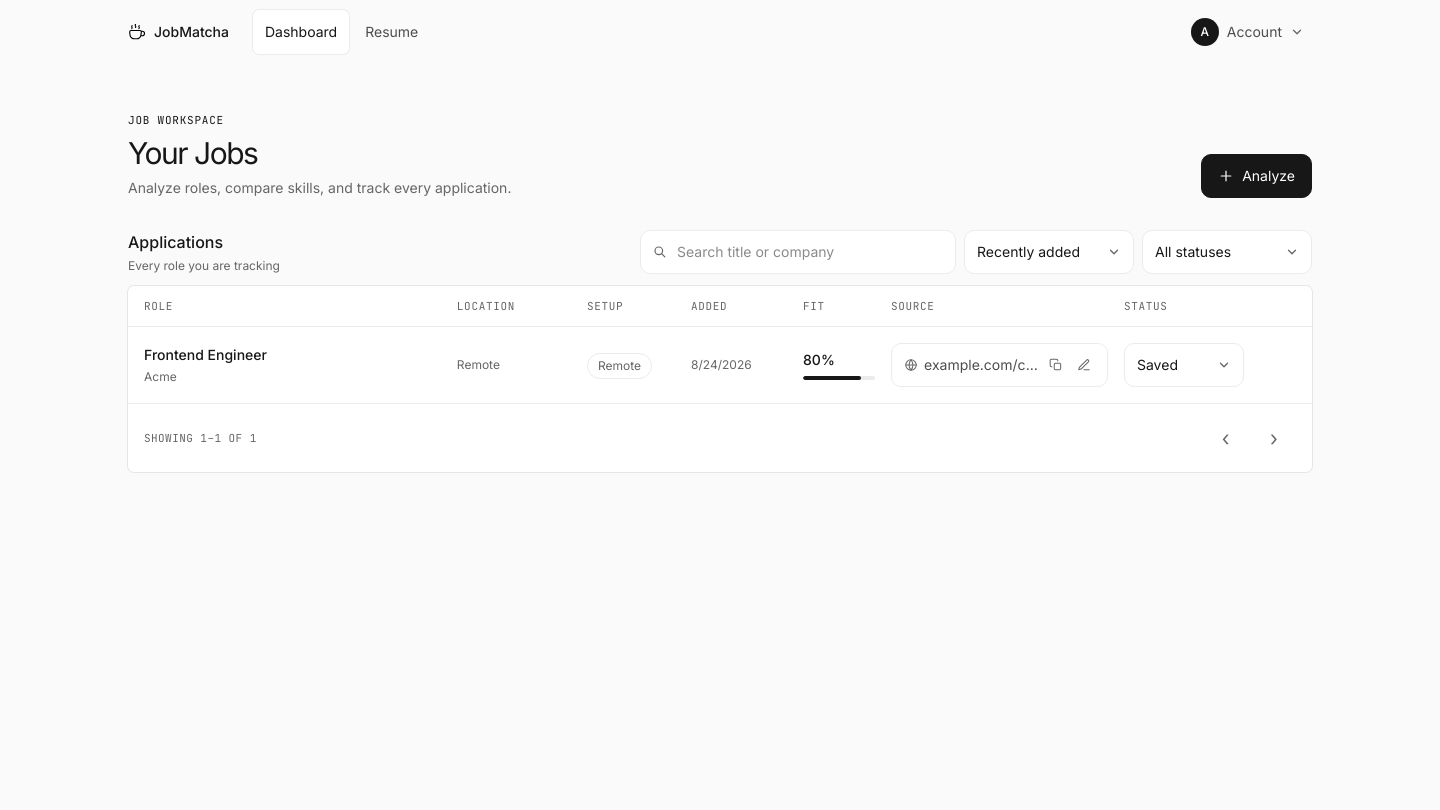
Test: DashboardPage › confirms a status change without moving the page
The image size is (1440, 810).
What coordinates should you click on to do the following:
click the dropdown named "Status for"
I would click on:
 (1184, 365)
Its box is [1124, 343, 1244, 387].
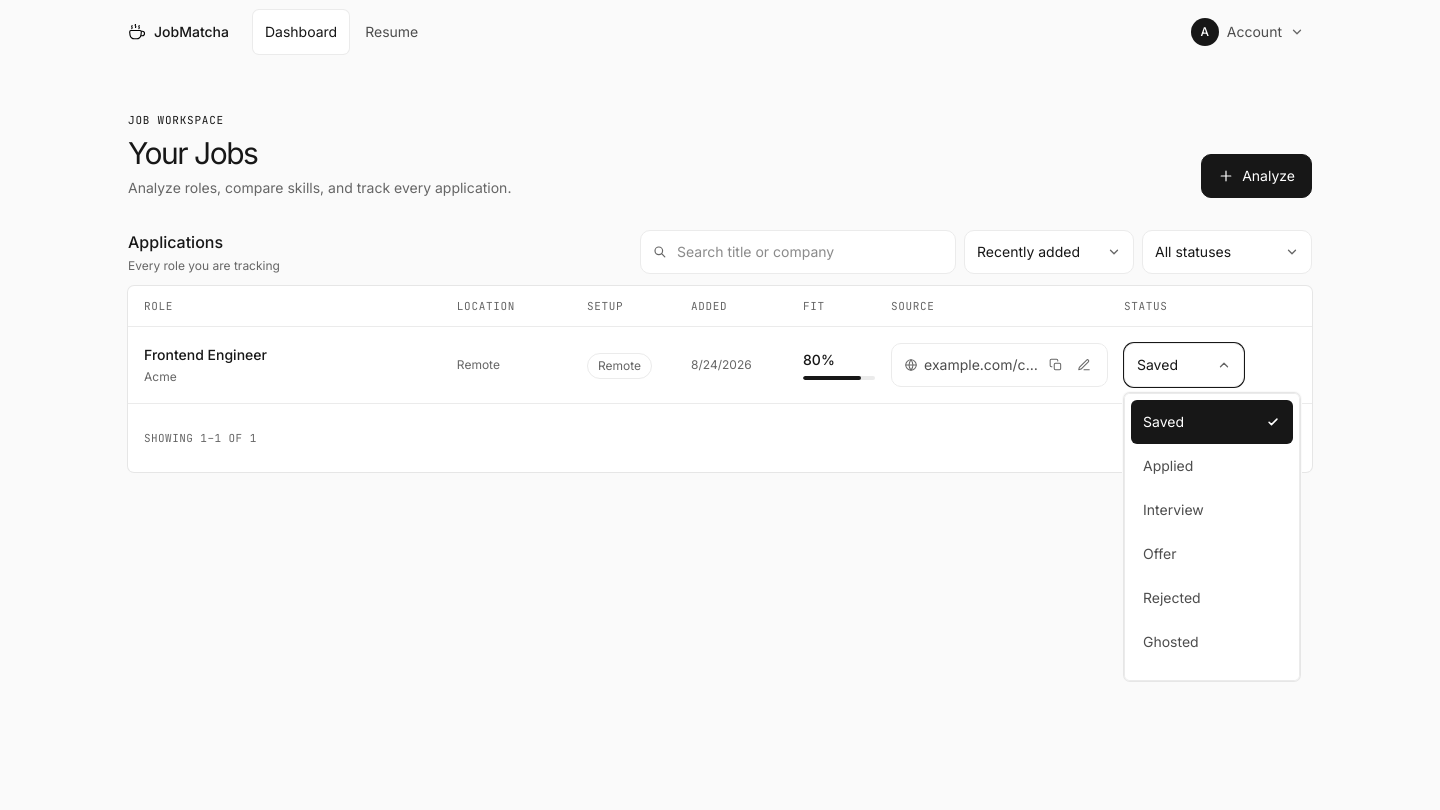
What coordinates should you click on to do the following:
click the option "Applied"
I would click on:
 (1212, 466)
Its box is [1131, 444, 1293, 488].
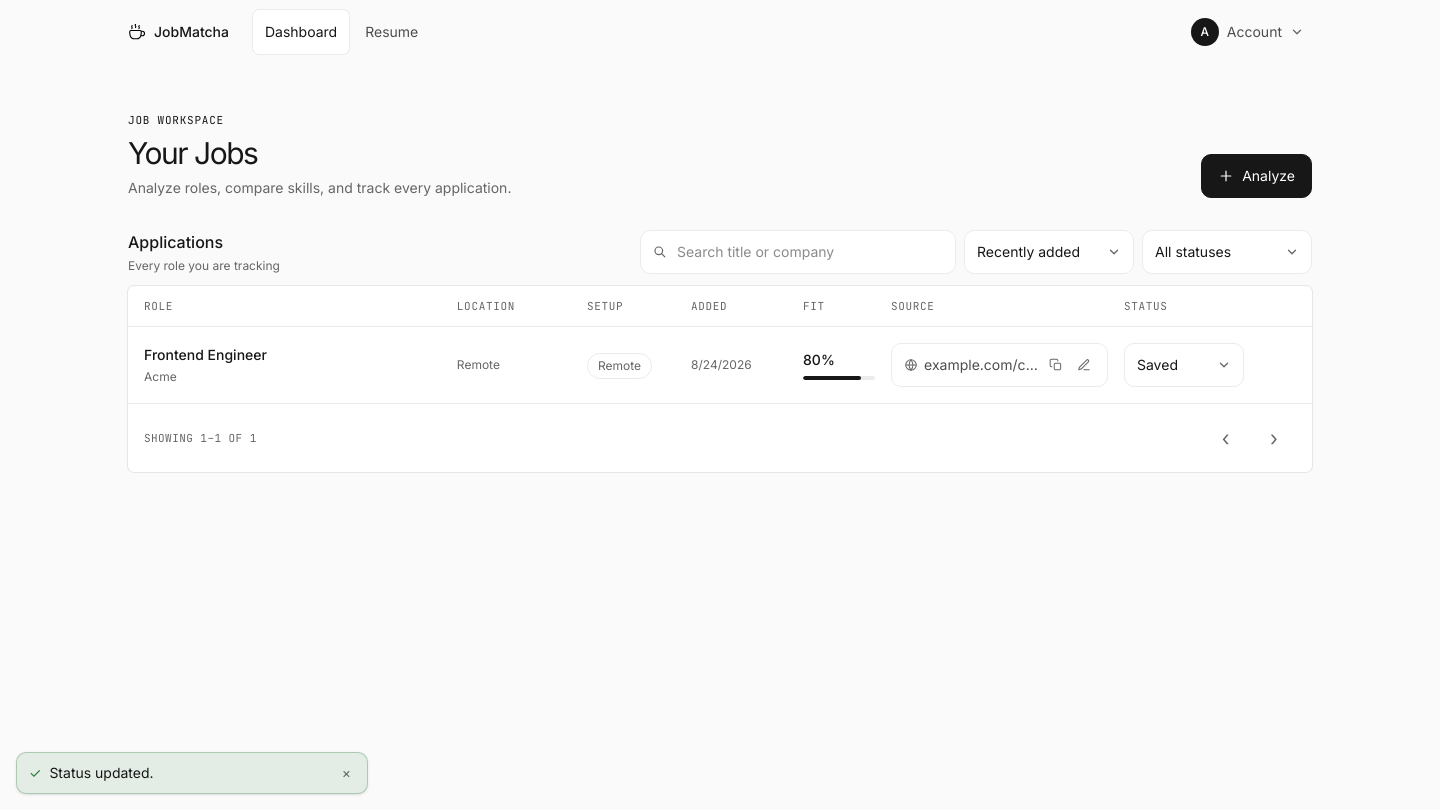
Expected: the message shows "Status updated.", [49, 764, 154, 781]
